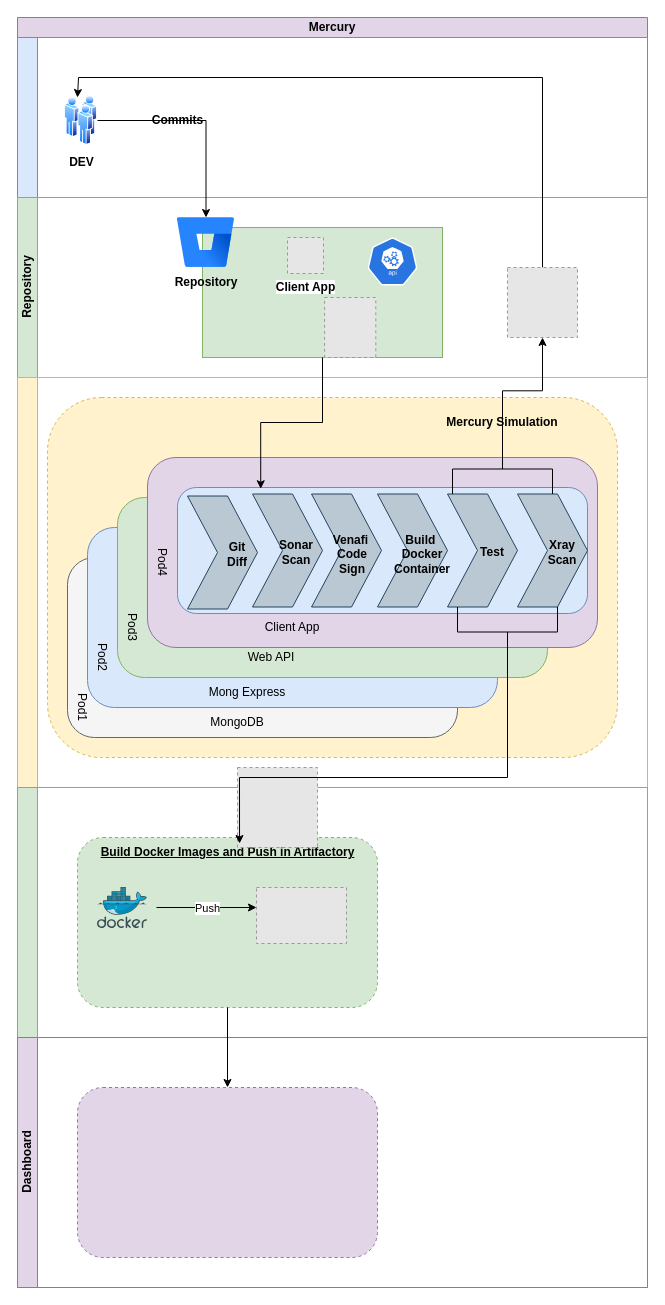
The diagram is 665 pixels wide and 1305 high, and some of its shapes have lost their labels. Grey dashed boxes stand in for pictures. The shapes that lost their labels are listed below. From the top down, each one's box as (x1, y1, x2, y2) in pixels, then its label:
(16, 36, 648, 198): Dev User
(366, 236, 418, 286): API
(16, 376, 648, 788): Jenkis Pipeline
(16, 786, 648, 1038): Publish to Artifactory
(76, 1086, 378, 1258): Openshift Dashboard
